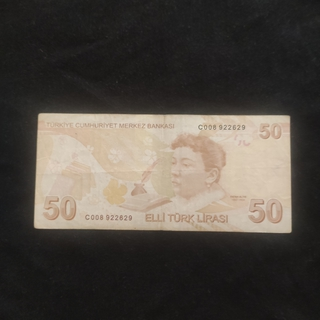50TLBack: (34, 112, 292, 233)
